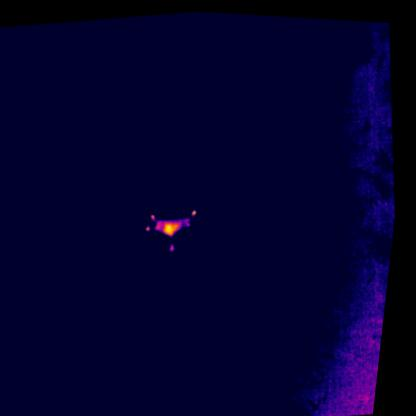drone: (145, 203, 205, 252)
